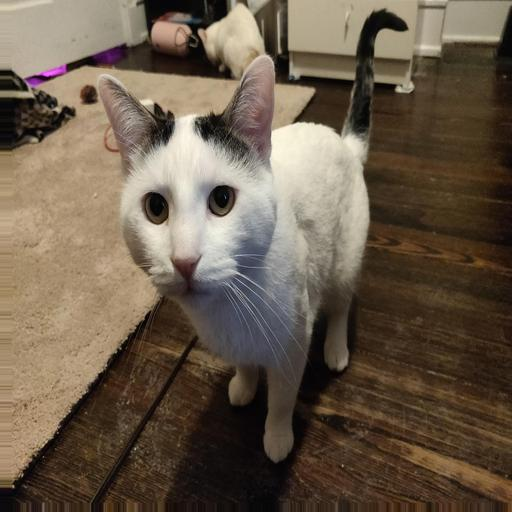cat: (85, 71, 437, 423)
